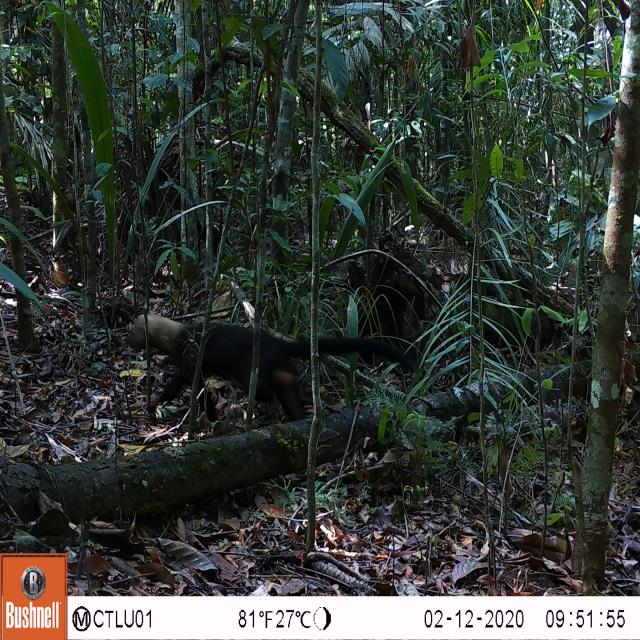Tayra: (121, 312, 306, 419)
